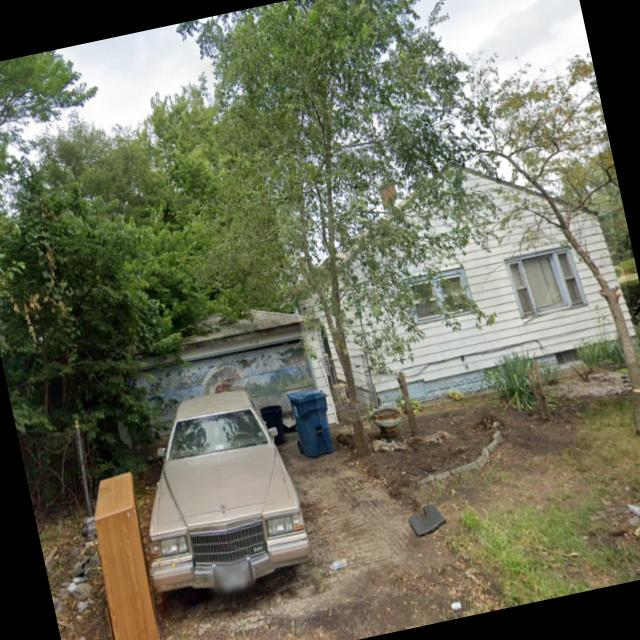House: (274, 138, 640, 428)
